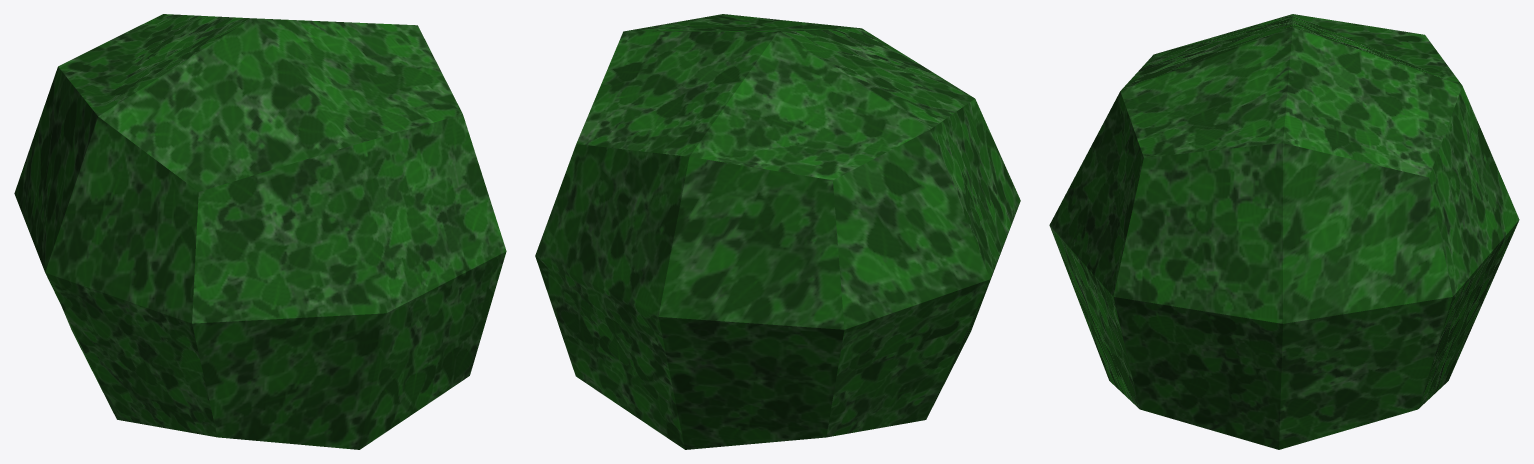
Rendered from bush_1.fbx.
3 renders of one model, left to right at view 1: azimuth 30°, elevation 25°; view 2: azimuth 150°, elevation 25°; view 3: azimuth 270°, elevation 25°, orthographic. The views are drawn at different scales.
Visible parts, largest first — view 1: Cube; view 2: Cube; view 3: Cube.
Part boxes in pixels (box(x1,y1,x2,y2)): Cube: box(14, 14, 506, 449); Cube: box(535, 14, 1020, 449); Cube: box(1049, 14, 1519, 449).
Bounding box in the file's own units: 170 × 138 × 169.
